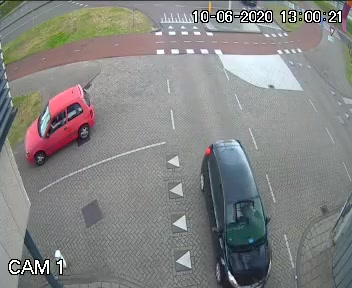car: (192, 130, 283, 287), (24, 82, 103, 160)
